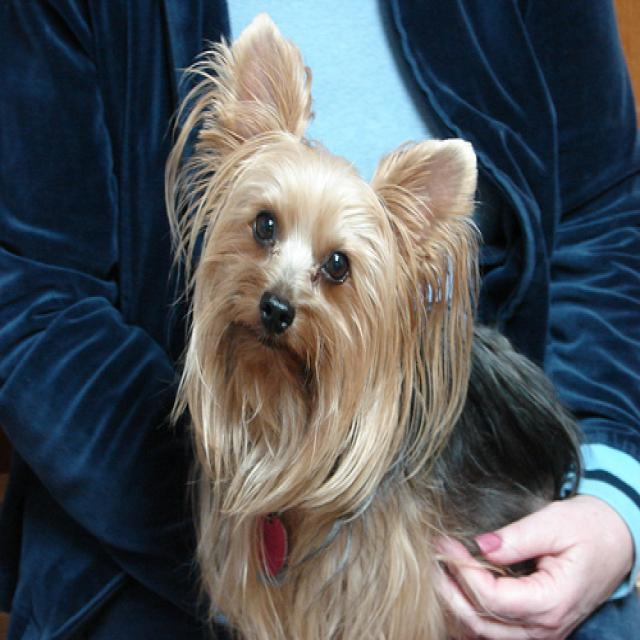dog-yorkshire_terrier: (159, 2, 577, 637)
